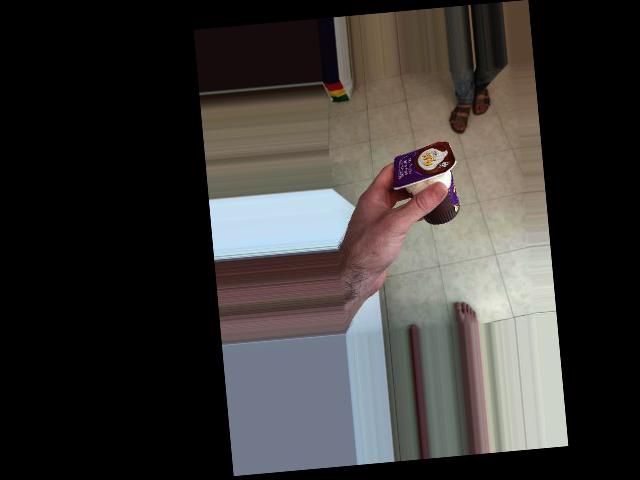milky: (397, 132, 491, 199)
